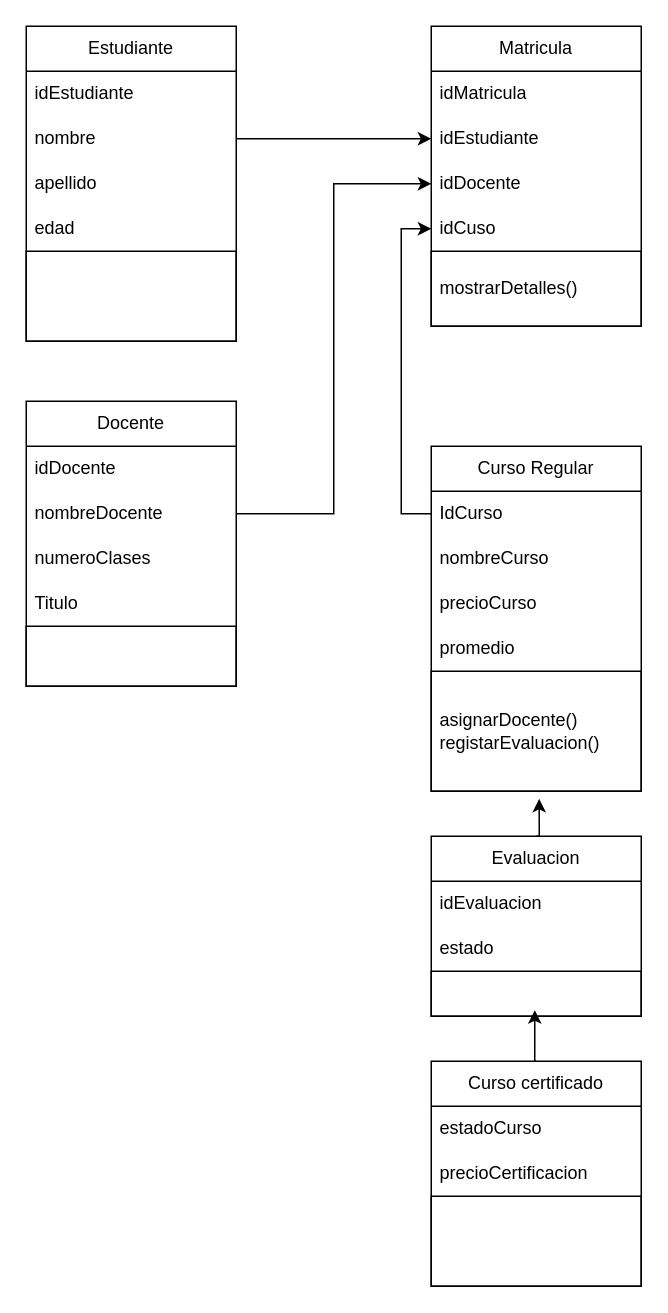
Image size: 668x1313. Some labels were removed from this diagram. Here are the shapes that lost their labels. From the top down, the centre of each, then its label:
the point at 130,295: mostrarDatos() validarEdad()
the point at 130,655: mostrarPerfil()
the point at 535,993: getresultado()
the point at 535,1240: calcularPrecioFinal() mostrarResumen
